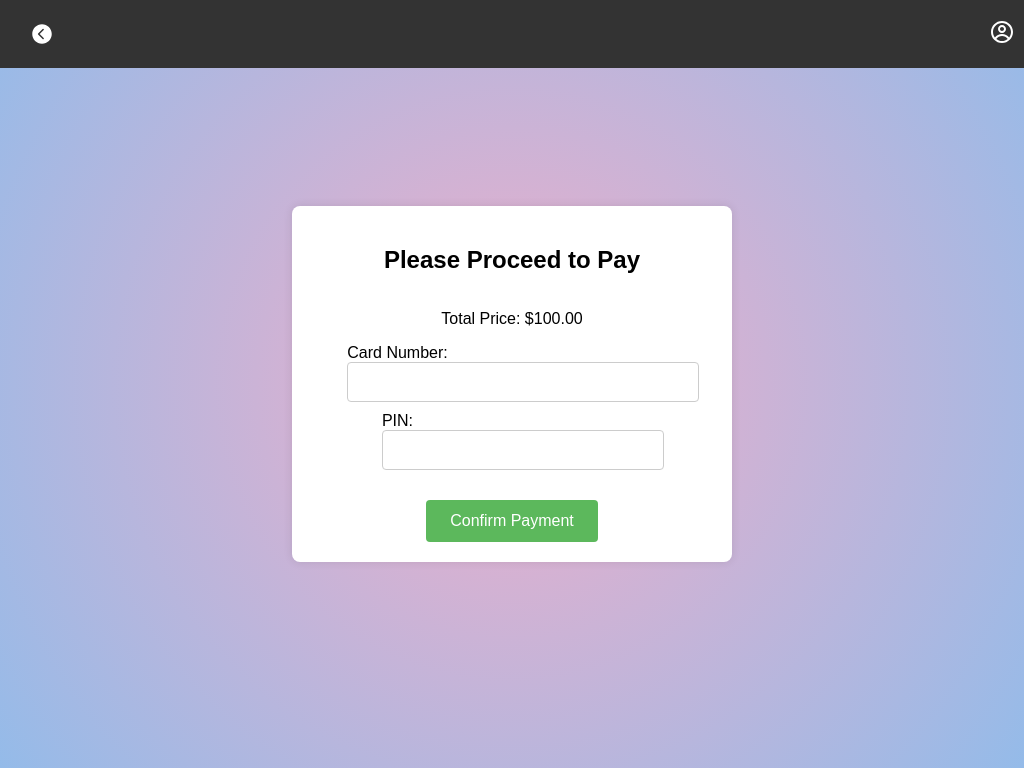
Scenario: Payment component › validates card number and PIN input
Type "123" into the field labelled "Card Number:" at point(523, 382), box left=347, top=362, right=699, bottom=402
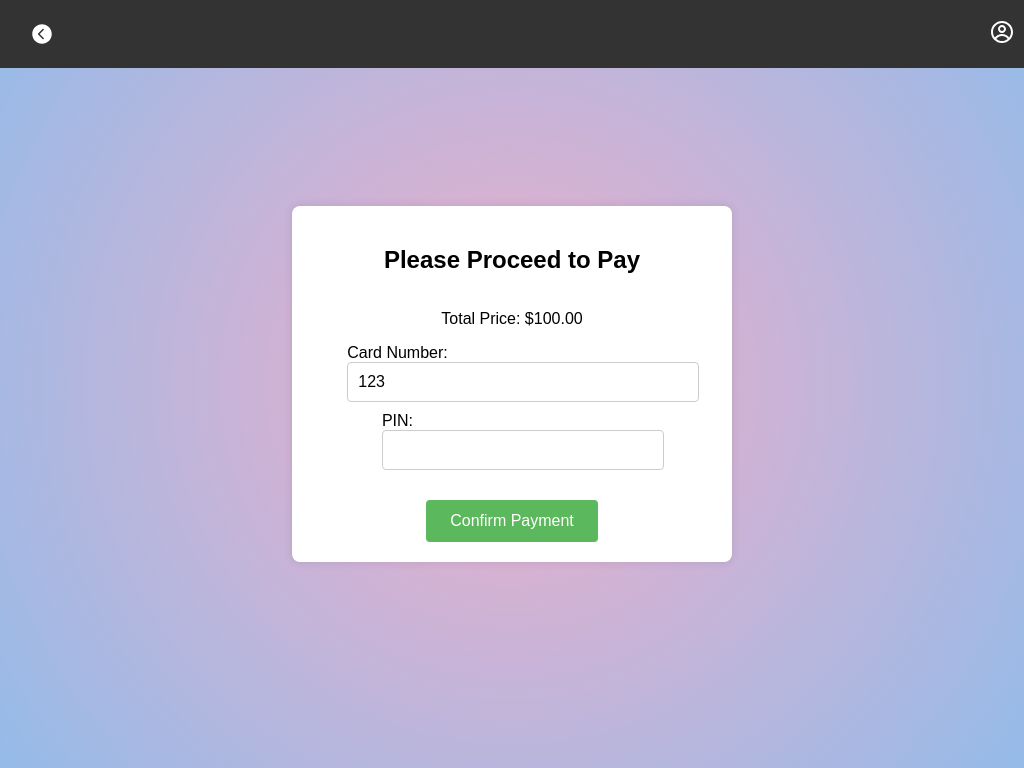
Type "12" into the password field labelled "PIN:" at point(523, 450), box left=382, top=430, right=664, bottom=470
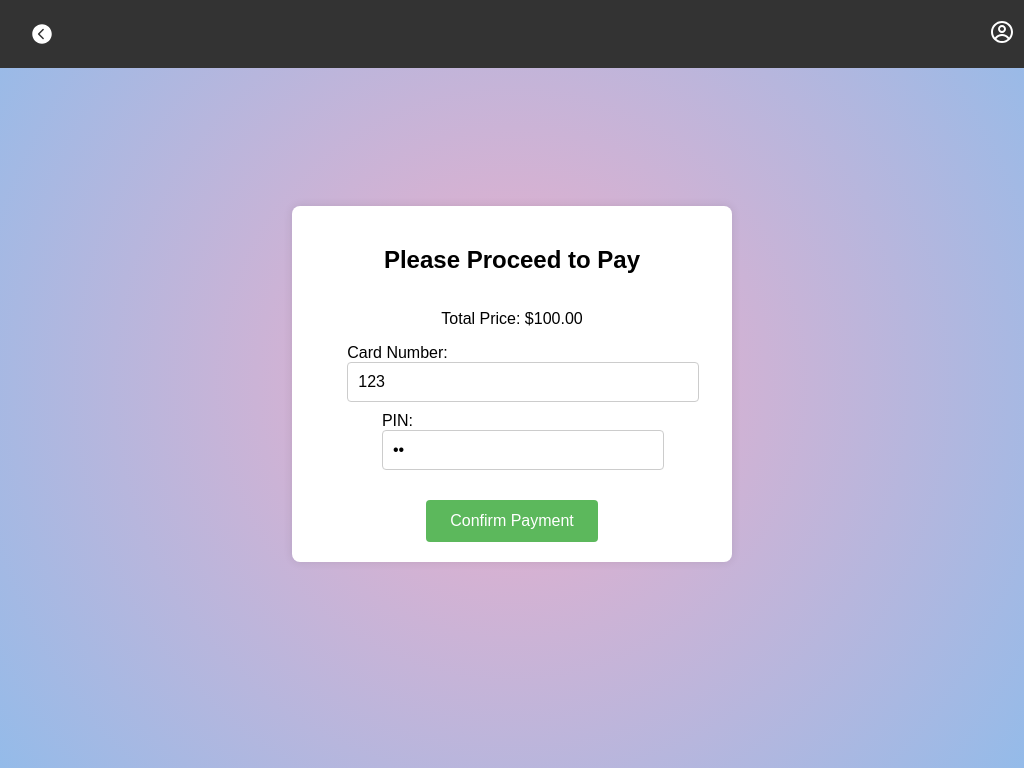
Click the button "Confirm Payment" at point(512, 521), box left=426, top=500, right=598, bottom=542
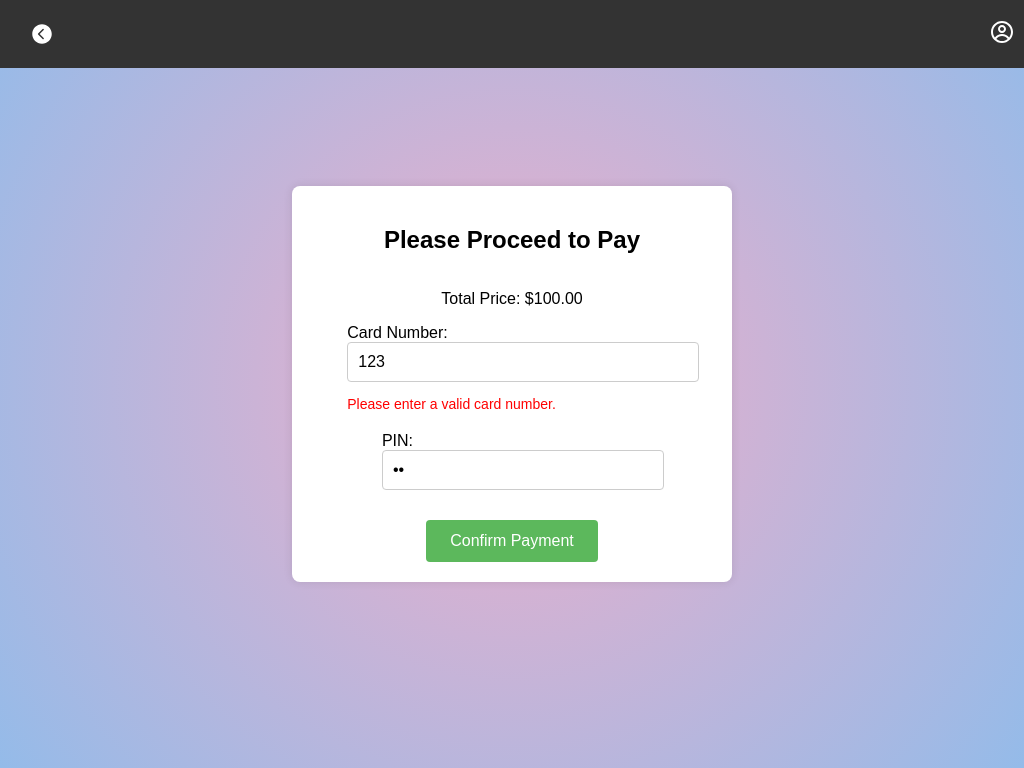
Expected: the text "Please enter a valid card number." is shown, left=347, top=396, right=556, bottom=412
